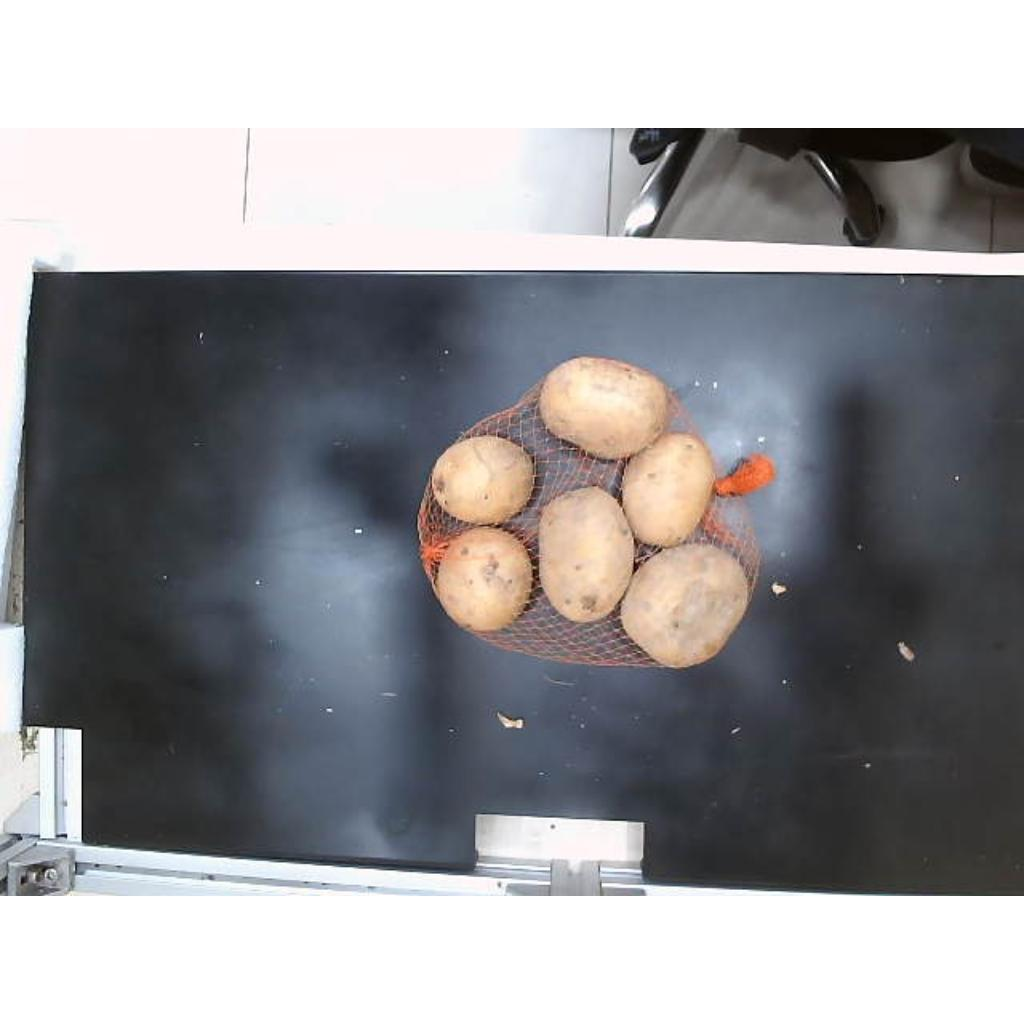potato: (622, 544, 748, 667), (538, 356, 666, 459), (538, 486, 634, 622), (622, 432, 714, 547), (434, 526, 532, 632), (432, 436, 530, 523)
